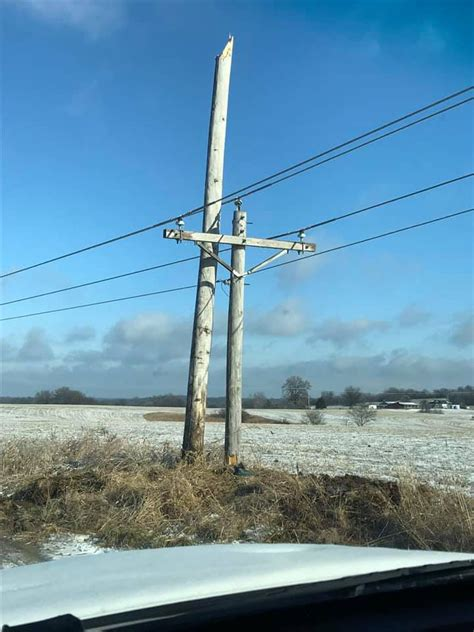pole: (127, 22, 338, 491)
